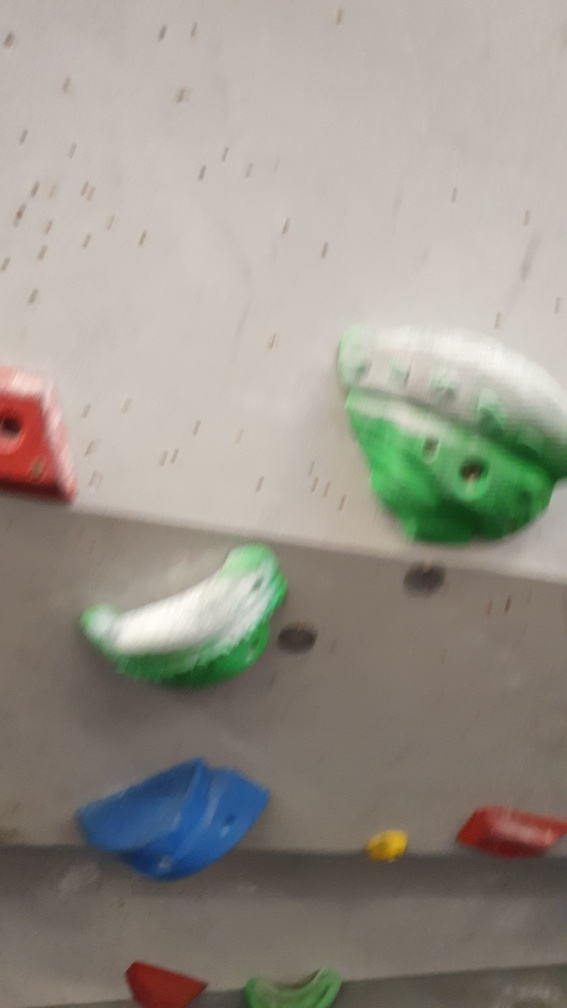Crimp: (1, 358, 93, 512), (450, 802, 567, 871)
Hand Start: (401, 555, 451, 603), (273, 616, 323, 662)
Jug: (330, 315, 567, 556), (75, 541, 292, 688), (238, 964, 341, 1008)
Pinch: (71, 756, 274, 885)
